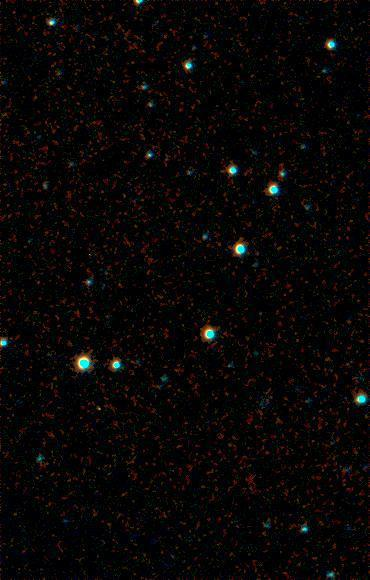star: (87, 392, 117, 422)
